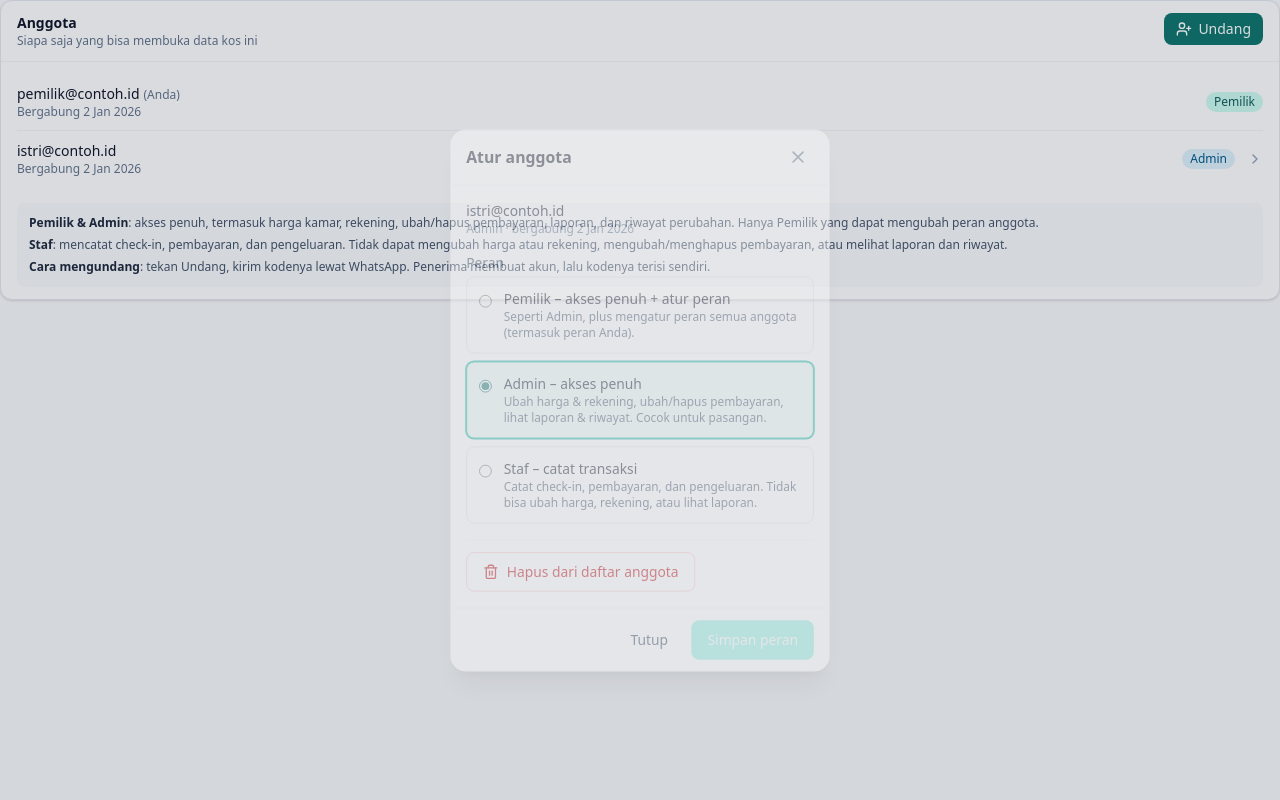
Test case: MembersCard › changes a role through the server and shows its refusal inline
Click the button with aria-label "Atur istri@contoh.id".
click(67, 150)  # box 9,131 -> 1271,187
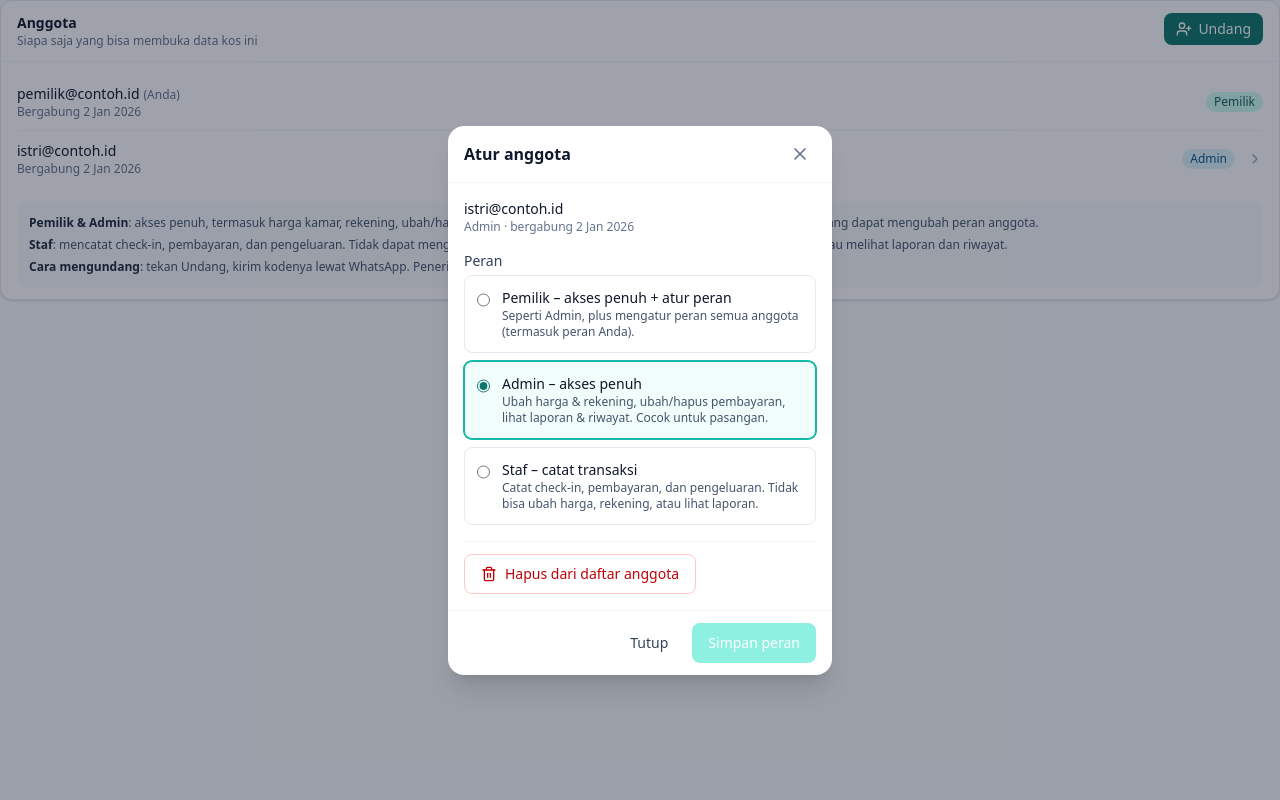
Click the radio button labelled "Staf".
click(484, 472)  # box 477,464 -> 490,480
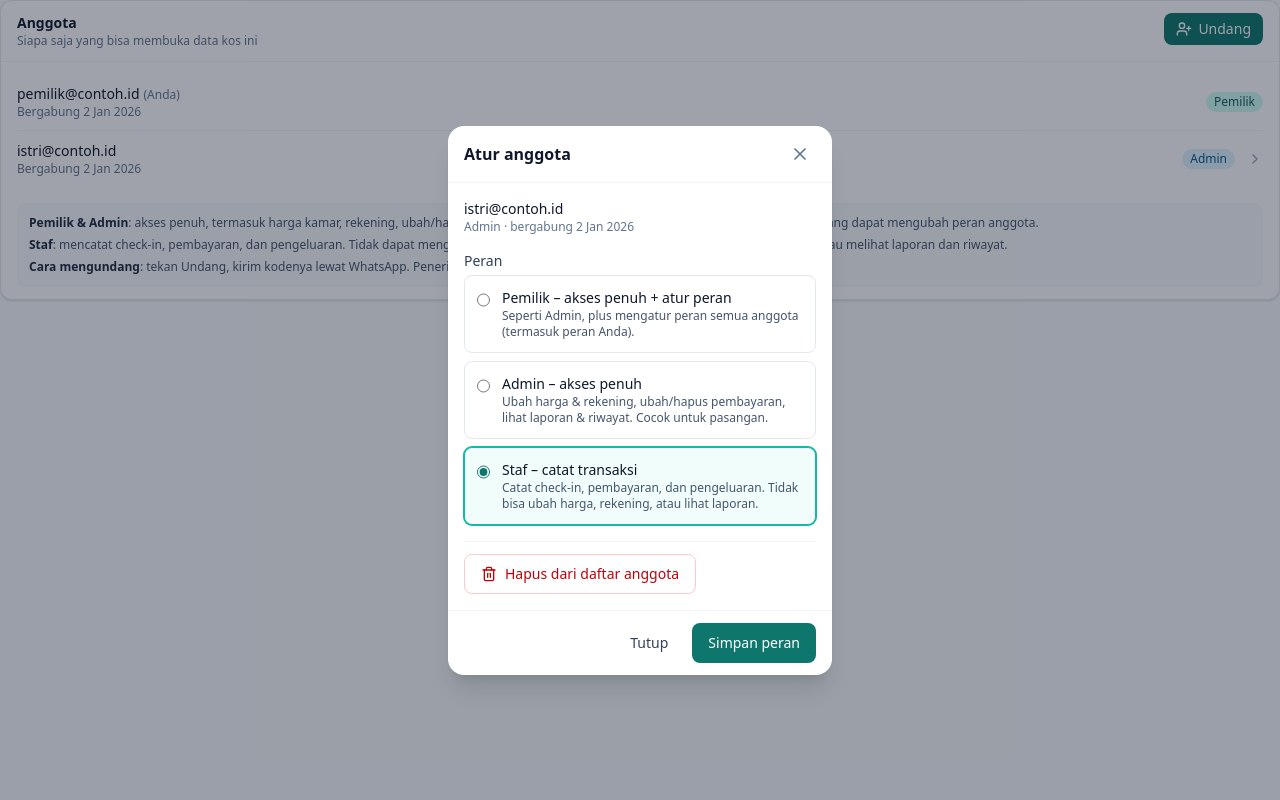
Click the button "Simpan peran".
click(754, 642)  # box 692,622 -> 816,662
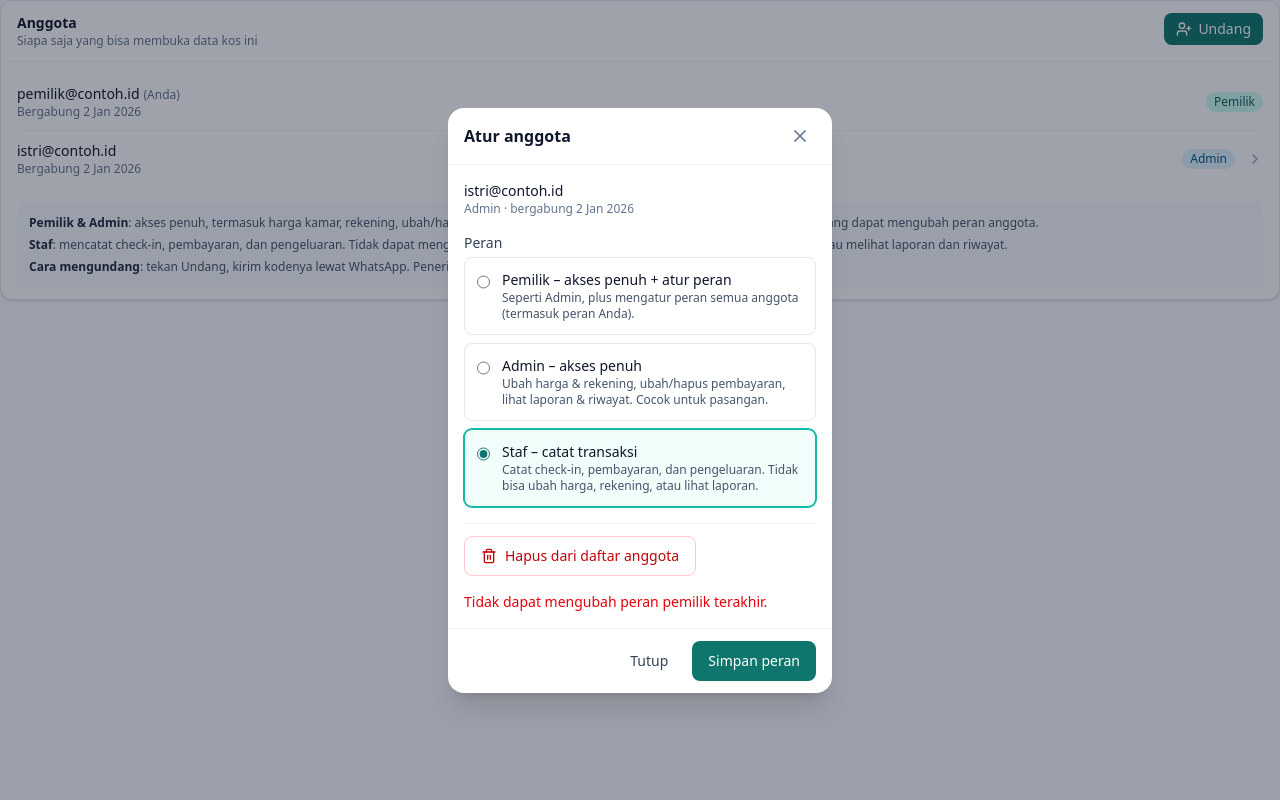
Check: the message reads "Tidak dapat mengubah peran pemilik terakhir.", box 464,592 -> 767,610
